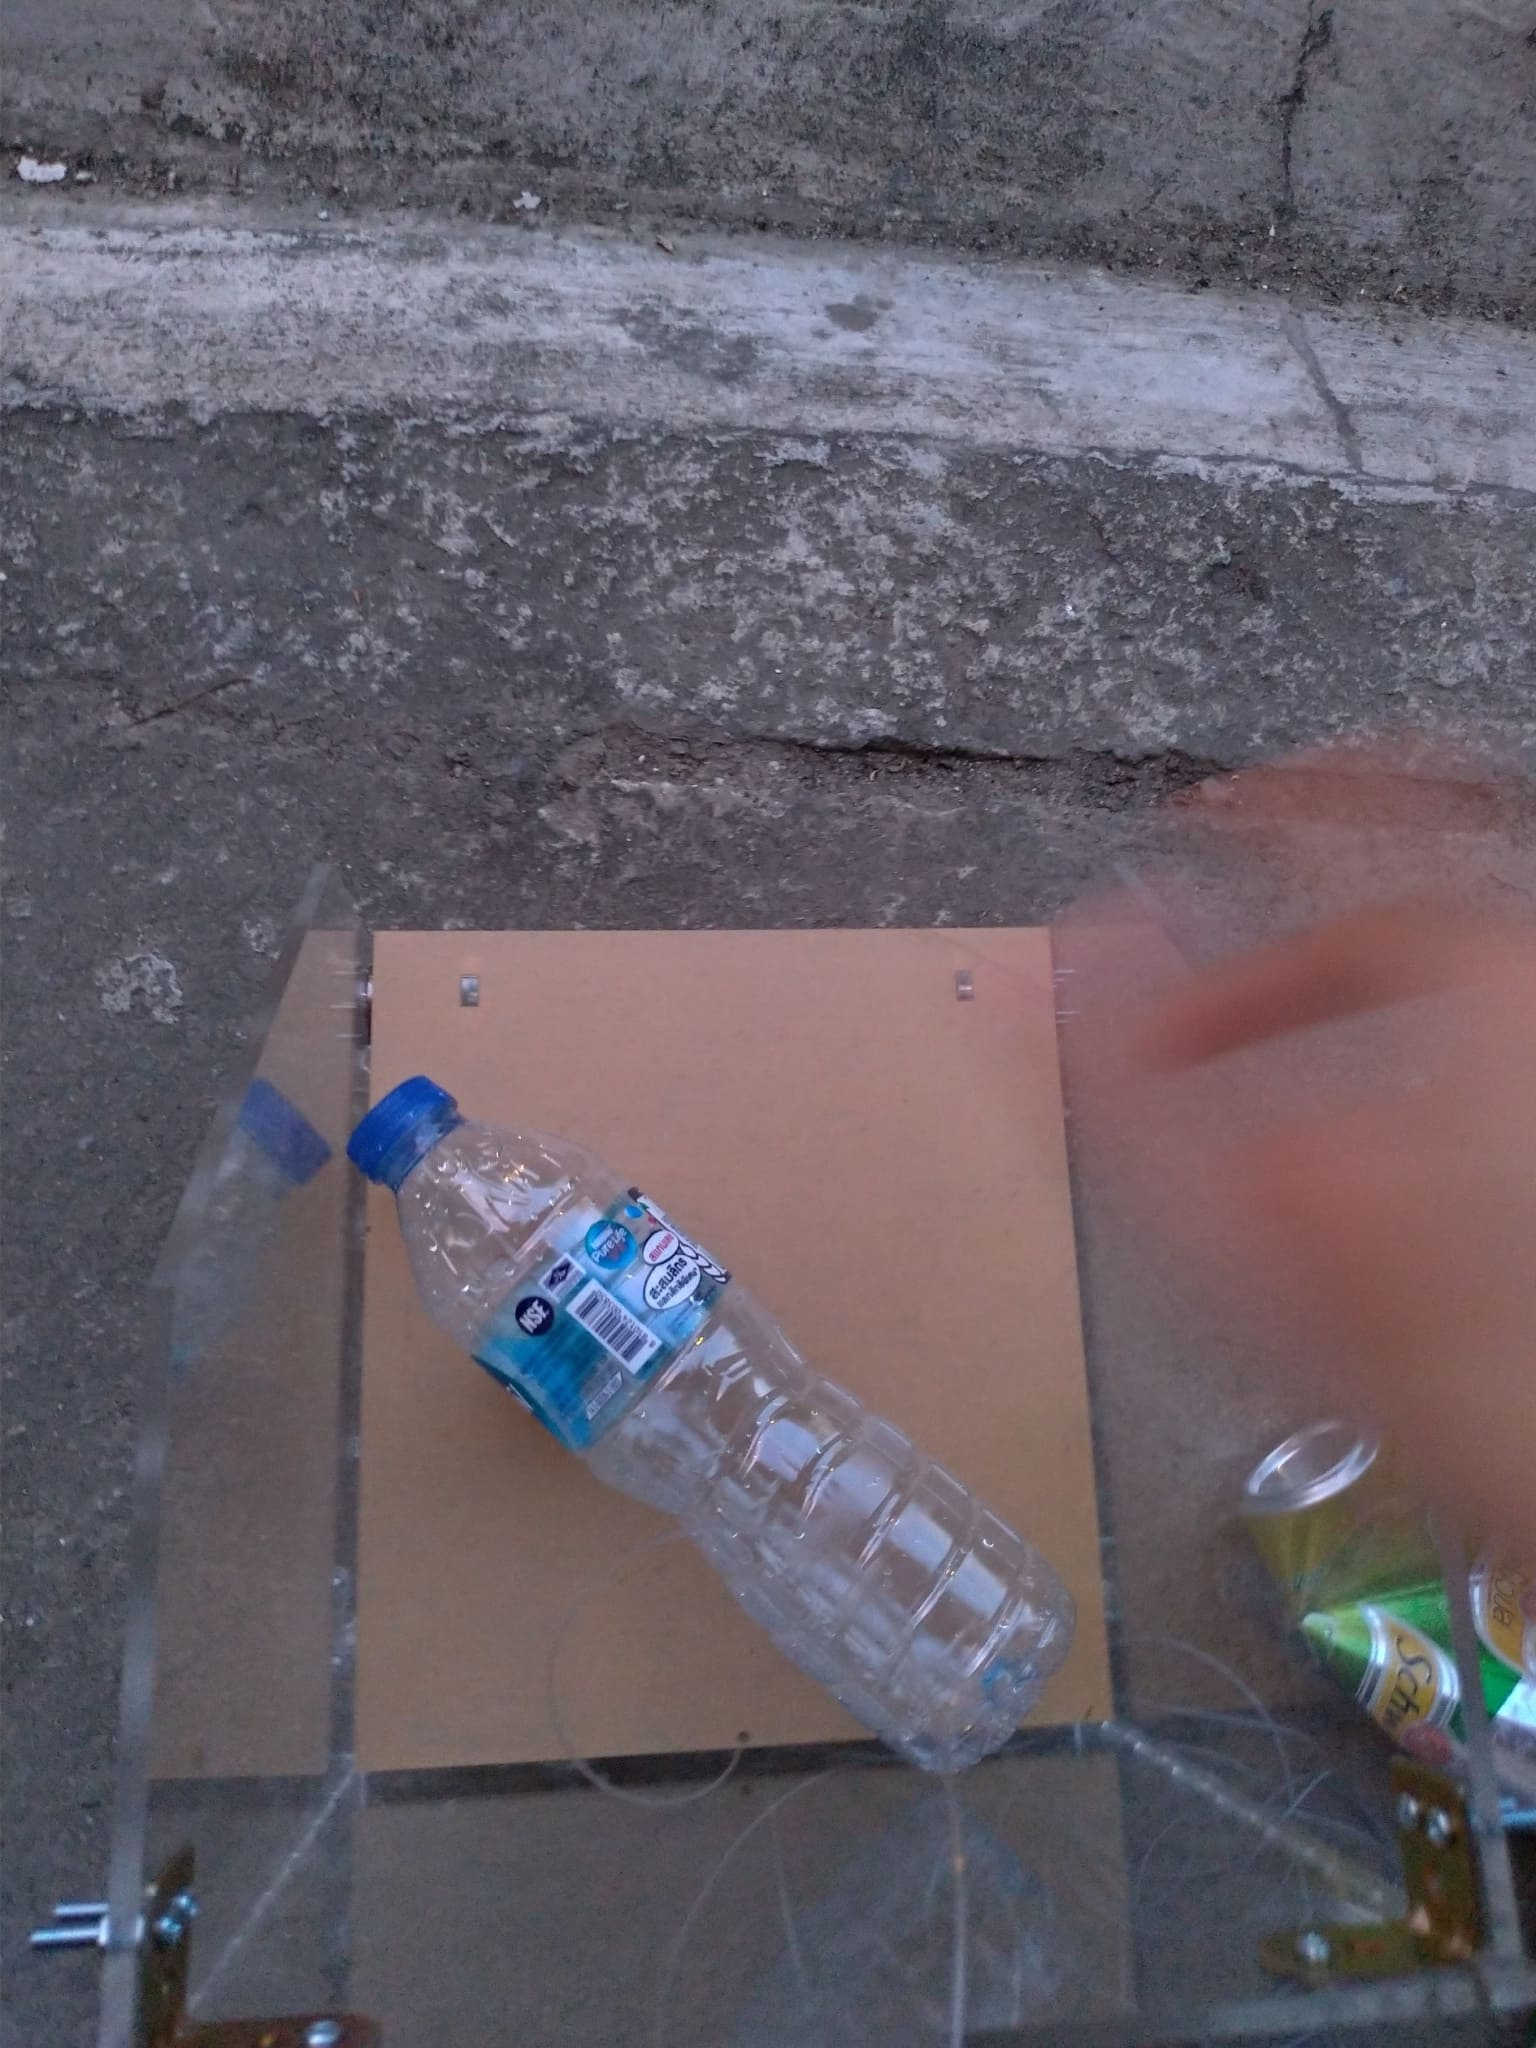AlCan: (1241, 1416, 1534, 1813)
PlasticBottle: (340, 1077, 1079, 1780)
